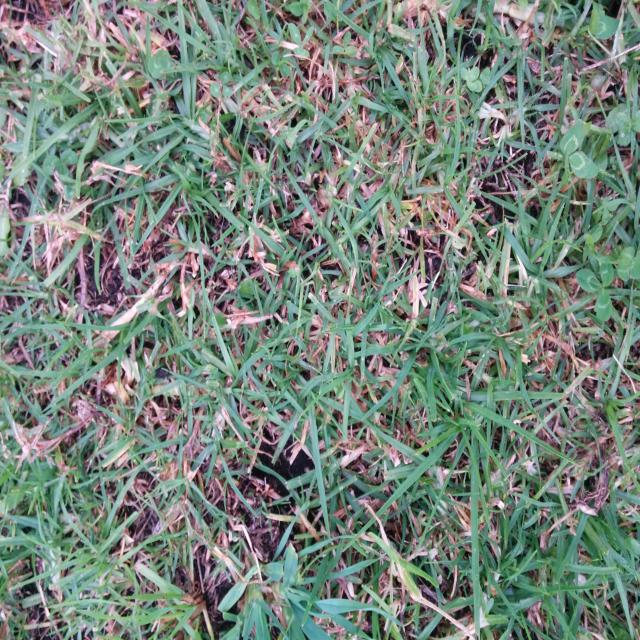Four Leaf Clover: (460, 67, 482, 92)
